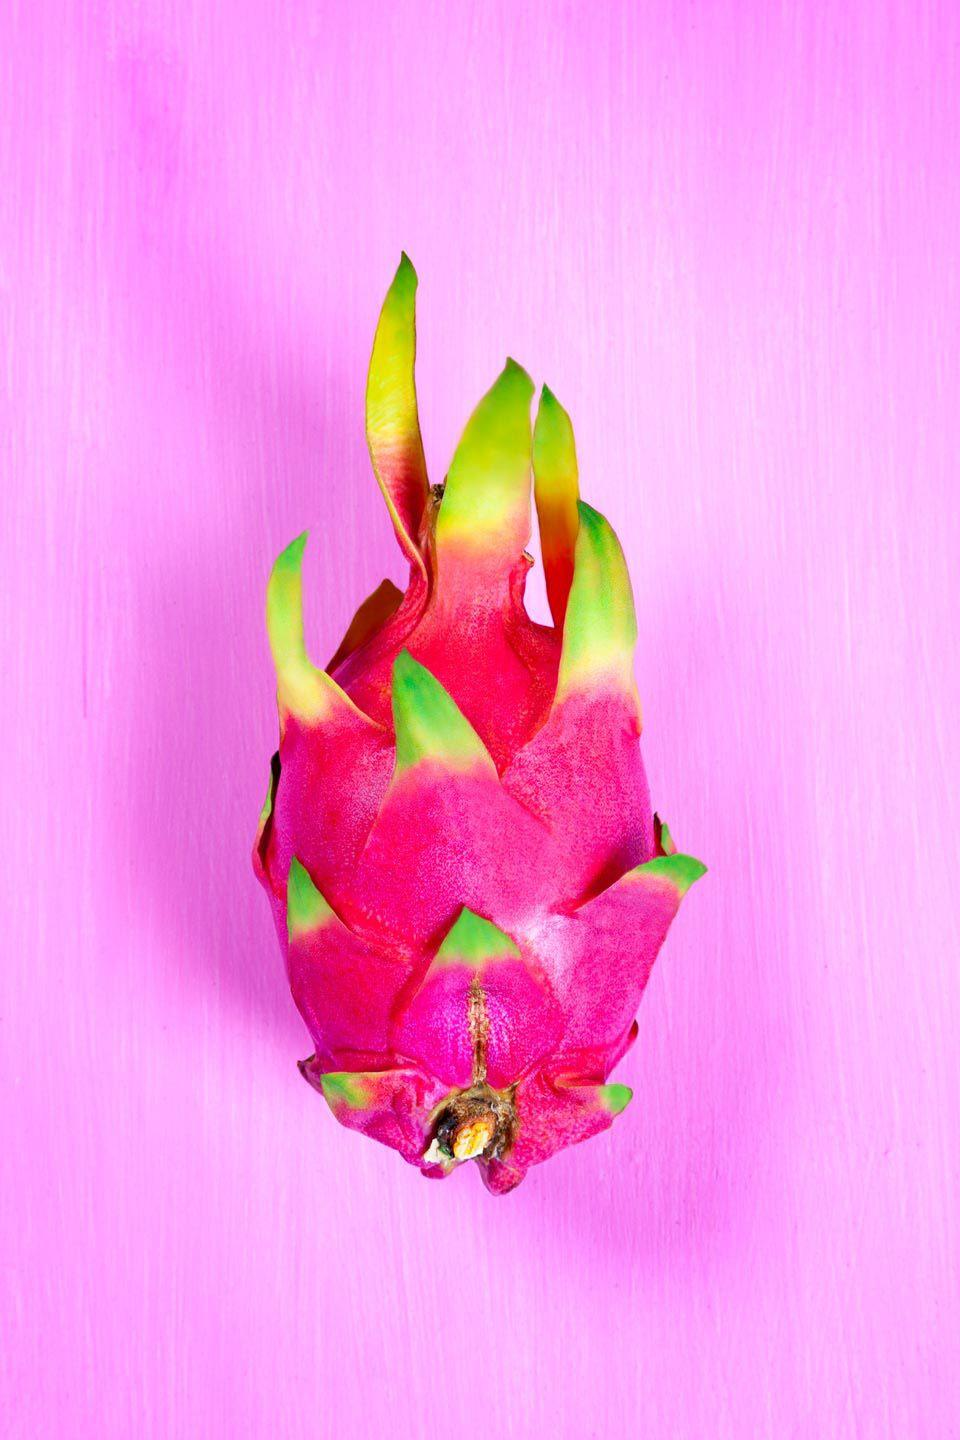dragon fruit: (200, 225, 750, 1250)
